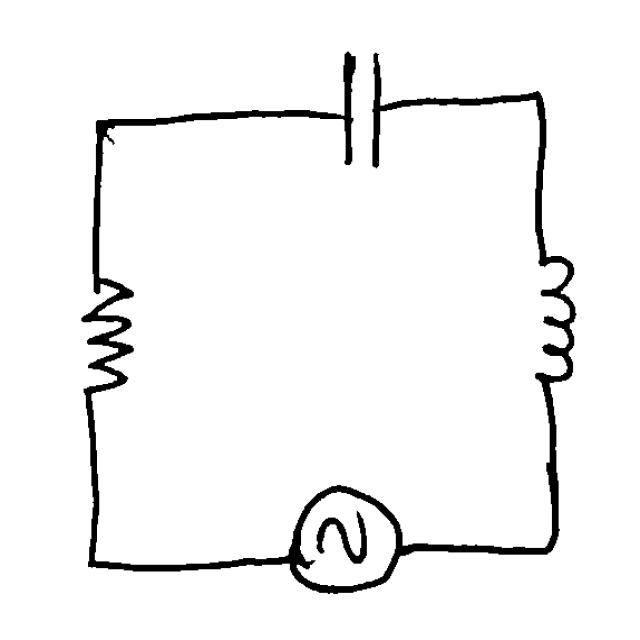ac: (275, 466, 416, 601)
capacitor: (322, 31, 405, 182)
inductor: (510, 237, 586, 406)
resistor: (68, 262, 142, 408)
